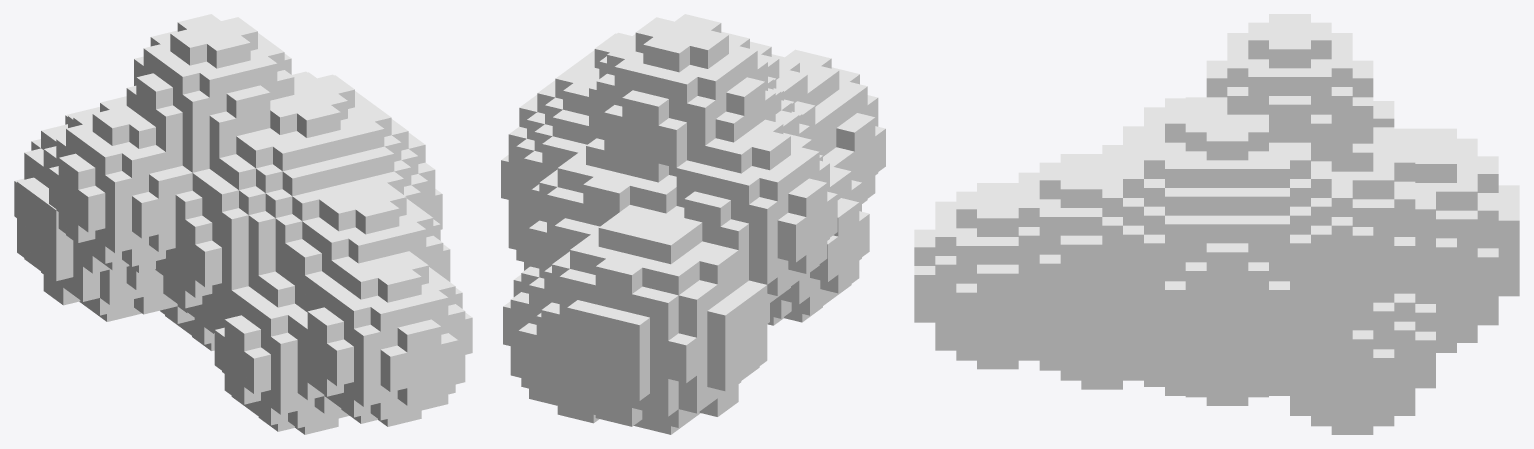
File: Cloud1.obj
3 views of the same model, side by side, from view 1: azimuth 30°, elevation 25°; view 2: azimuth 150°, elevation 25°; view 3: azimuth 270°, elevation 25° (orthographic). The views are drawn at different scales.
Size of the model in its own units: 1.8 by 1.9 by 2.9.
Materials: 1 (1 with a texture image).
